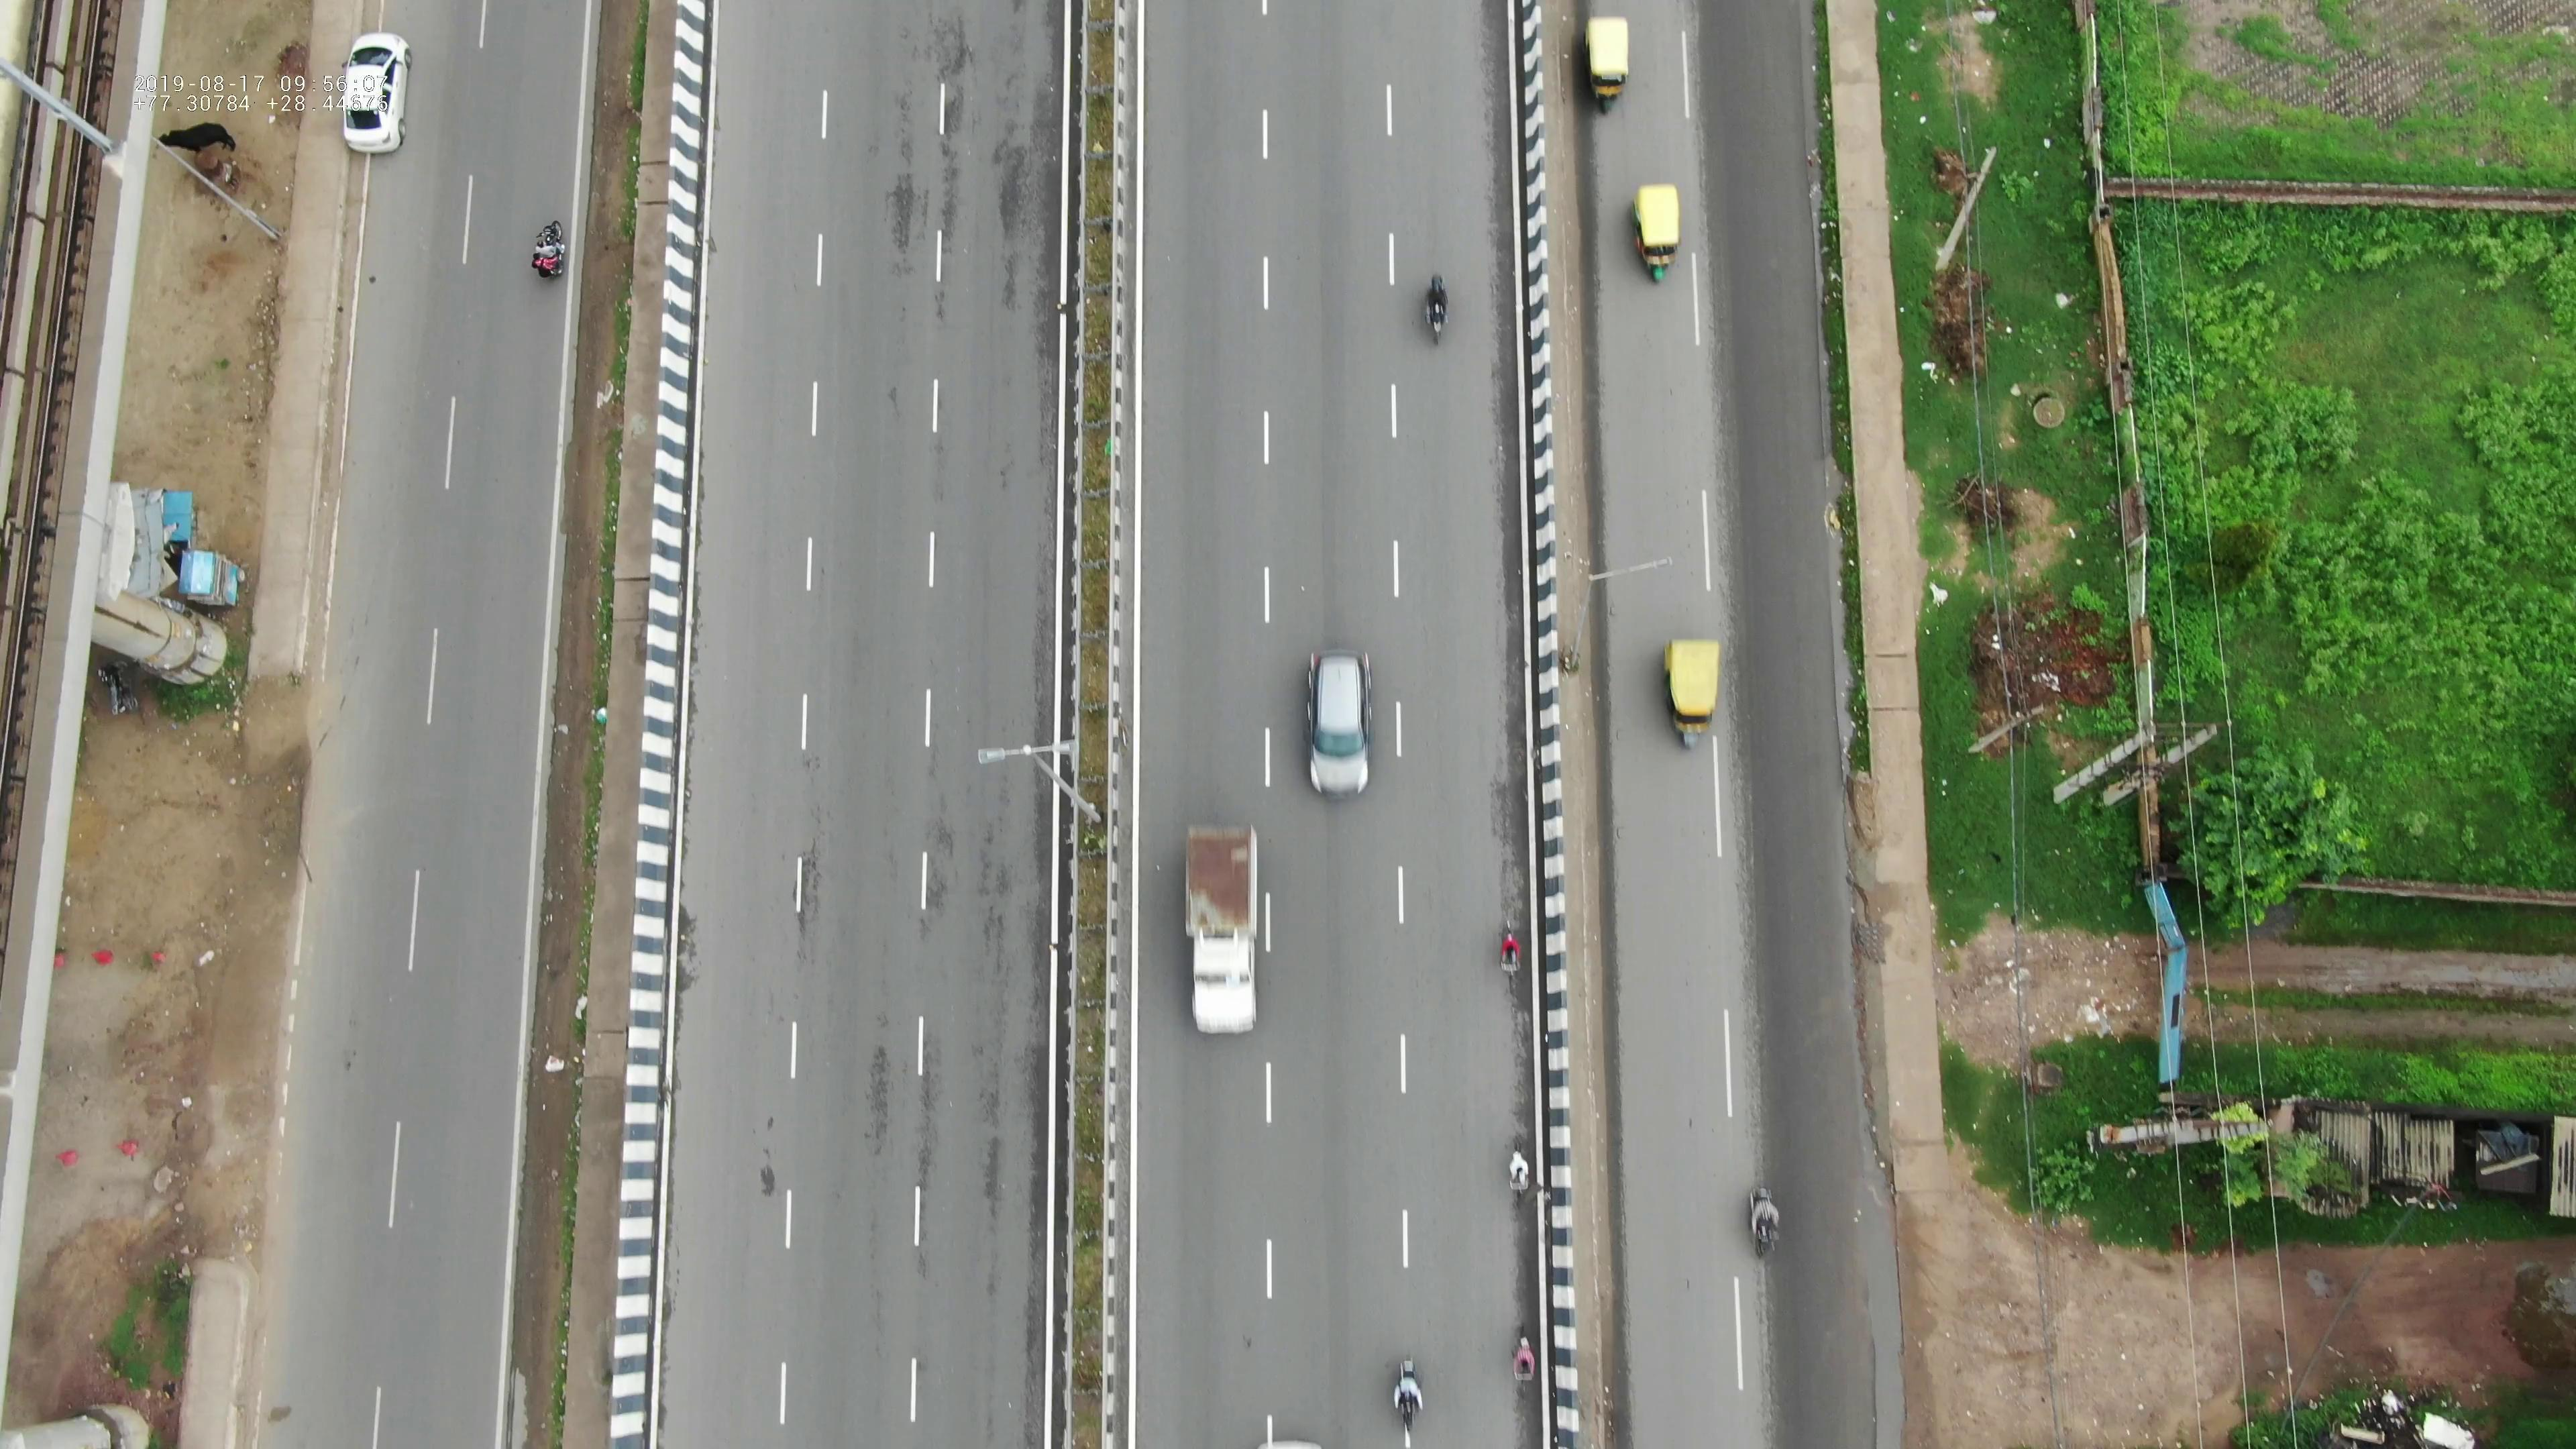Ravelling: (853, 2, 1054, 288)
